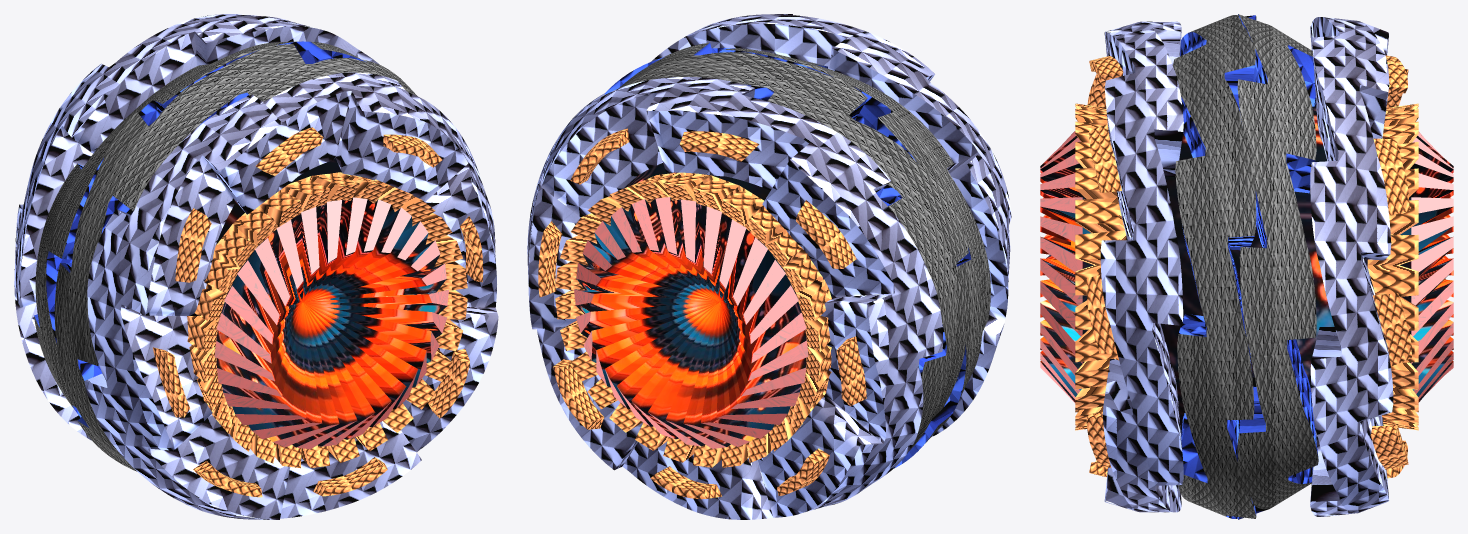
Rendered from RollingBalls_Sci-fi_4_1.glb.
The picture shows the model from 3 angles, left to right: view 1: azimuth 30°, elevation 25°; view 2: azimuth 150°, elevation 25°; view 3: azimuth 270°, elevation 25°; orthographic projection. The views are drawn at different scales.
Visible parts, largest first — view 1: RollingBalls_Sci-fi_4_1; view 2: RollingBalls_Sci-fi_4_1; view 3: RollingBalls_Sci-fi_4_1.
Part boxes in pixels (box(x1,y1,x2,y2)): RollingBalls_Sci-fi_4_1: box(14, 14, 498, 519); RollingBalls_Sci-fi_4_1: box(527, 14, 1011, 519); RollingBalls_Sci-fi_4_1: box(1040, 14, 1453, 519).
Bounding box in the file's own units: 1.72 × 1.72 × 1.4.
6 materials, 5 textured.
